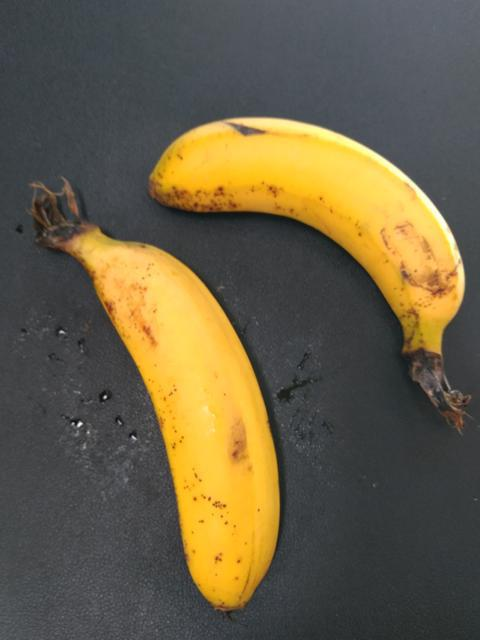ripe: (149, 84, 479, 341), (87, 238, 296, 619)
